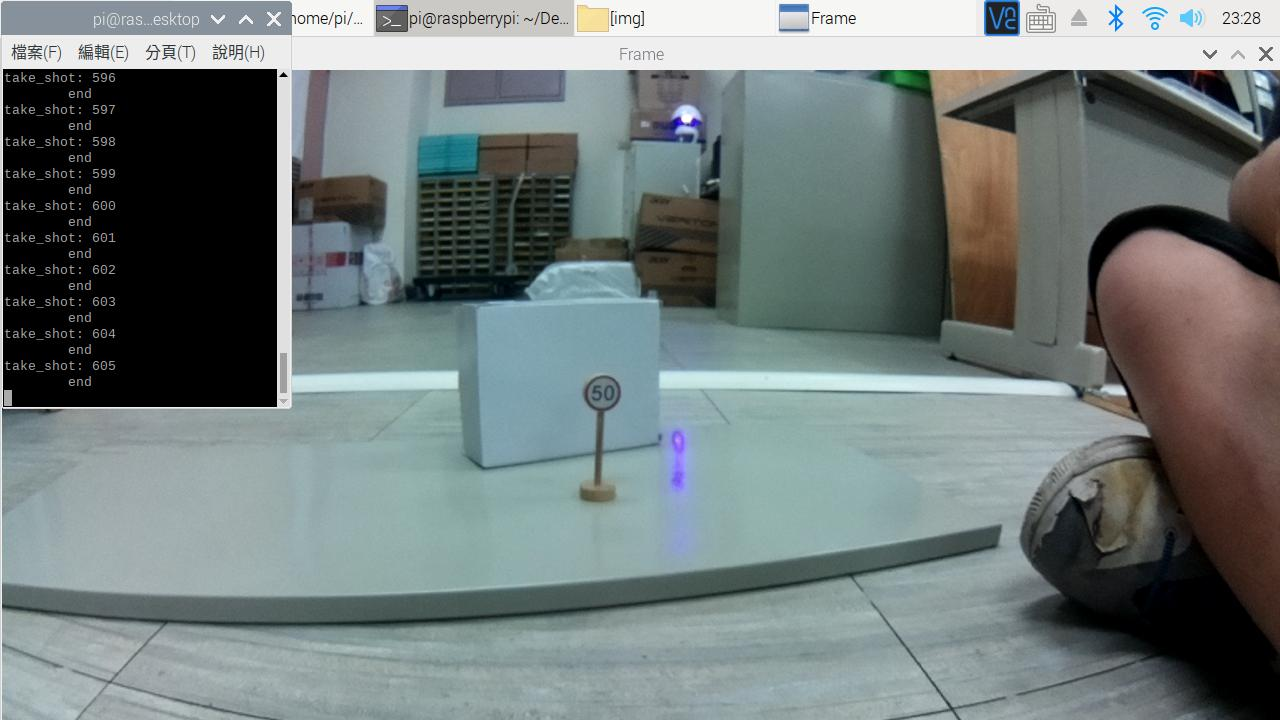Speed50: (579, 368, 638, 424)
